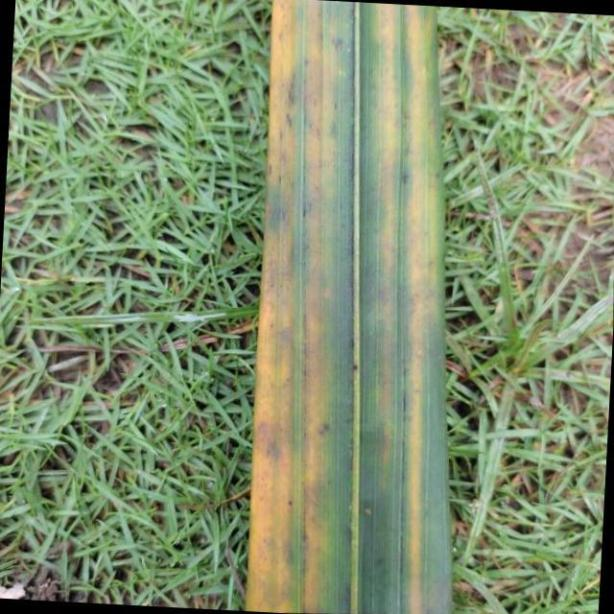Megnesium: (245, 0, 451, 614)
